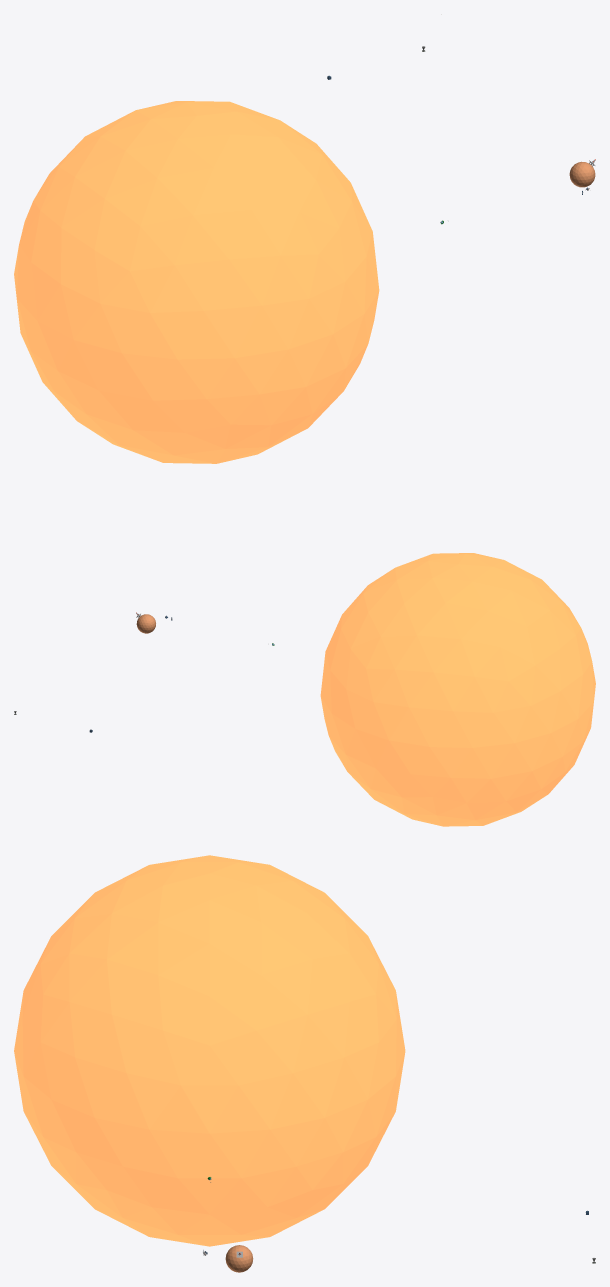
The model's file is Planetarium.glb.
3 renders of one model, top to bottom at view 1: azimuth 30°, elevation 25°; view 2: azimuth 150°, elevation 25°; view 3: azimuth 270°, elevation 25°, orthographic. The views are drawn at different scales.
Parts seen in each view (by area): view 1: Etoile; view 2: Etoile; view 3: Etoile, Planète 2.
Boxes of the visible parts, x1,y1,x2,y2 form: Etoile: [14, 101, 379, 463]; Etoile: [320, 553, 595, 826]; Etoile: [14, 855, 405, 1246]; Planète 2: [225, 1245, 253, 1272].
Size of the model in its own units: 458 by 284 by 379.
